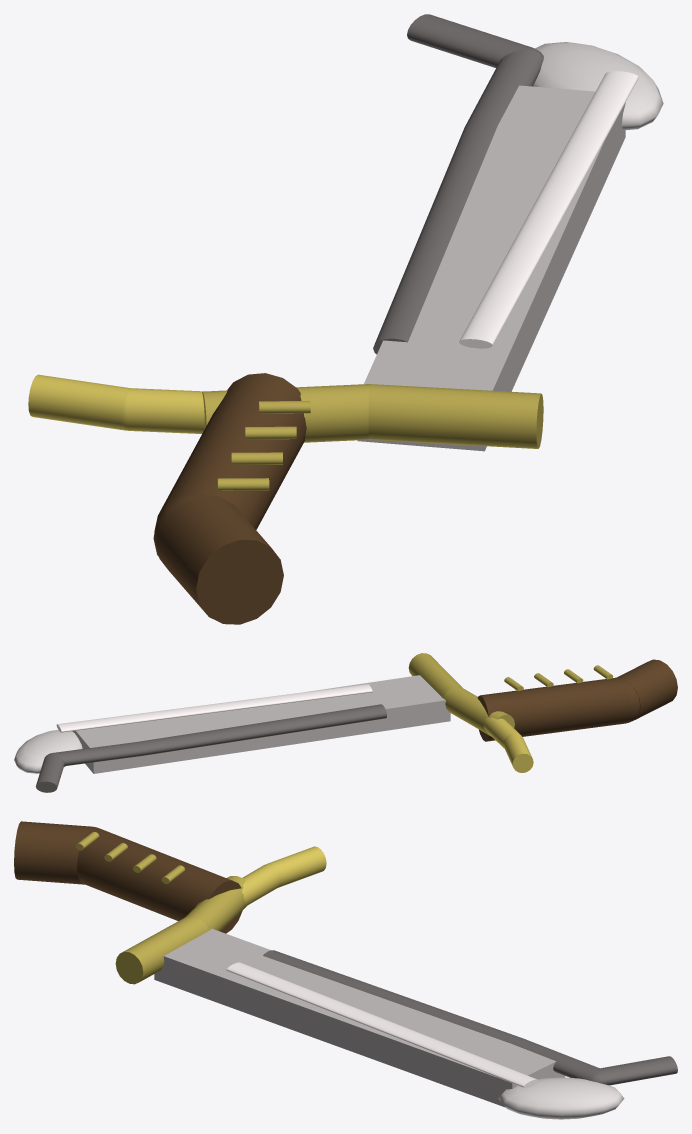
File: CMU3DFieldRMCCombatUtilityKnifeBCloud.glb
The picture shows the model from 3 angles, top to bottom: view 1: azimuth 30°, elevation 25°; view 2: azimuth 150°, elevation 25°; view 3: azimuth 270°, elevation 25°; orthographic projection. The views are drawn at different scales.
Parts seen in each view (by area): view 1: broad utility blade, bent brown grip span 1, bent brown grip span 2, utility blade polished edge, gold curved crossguard span 2, raised clip-point spine span 1, broad hooked blade tip, gold upper hook span 2, gold curved crossguard span 1, gold upper hook span 1, raised clip-point spine span 3, raised clip-point spine span 2; view 2: broad utility blade, bent brown grip span 2, raised clip-point spine span 1, utility blade polished edge, bent brown grip span 1, broad hooked blade tip, gold curved crossguard span 1, raised clip-point spine span 2, gold curved crossguard span 2, gold upper hook span 2, raised clip-point spine span 3, gold upper hook span 1 (+1 smaller); view 3: broad utility blade, bent brown grip span 2, utility blade polished edge, broad hooked blade tip, bent brown grip span 1, gold curved crossguard span 2, raised clip-point spine span 1, gold curved crossguard span 1, raised clip-point spine span 3, gold upper hook span 2, raised clip-point spine span 2, gold upper hook span 1.
Boxes of the visible parts, <box> form: broad utility blade: <box>357,85,625,451</box>; bent brown grip span 1: <box>156,493,283,624</box>; bent brown grip span 2: <box>154,373,306,531</box>; utility blade polished edge: <box>459,71,638,348</box>; gold curved crossguard span 2: <box>368,384,543,448</box>; raised clip-point spine span 1: <box>373,122,497,354</box>; broad hooked blade tip: <box>532,42,663,130</box>; gold upper hook span 2: <box>28,374,130,430</box>; gold curved crossguard span 1: <box>202,384,368,442</box>; gold upper hook span 1: <box>126,388,304,433</box>; raised clip-point spine span 3: <box>407,14,531,67</box>; raised clip-point spine span 2: <box>465,49,543,126</box>; broad utility blade: <box>72,675,450,773</box>; bent brown grip span 2: <box>477,677,629,741</box>; raised clip-point spine span 1: <box>138,704,386,755</box>; utility blade polished edge: <box>56,684,372,732</box>; bent brown grip span 1: <box>617,659,677,720</box>; broad hooked blade tip: <box>14,729,82,773</box>; gold curved crossguard span 1: <box>444,686,514,735</box>; raised clip-point spine span 2: <box>53,742,142,766</box>; gold curved crossguard span 2: <box>408,653,462,697</box>; gold upper hook span 2: <box>503,733,533,772</box>; raised clip-point spine span 3: <box>35,754,64,792</box>; gold upper hook span 1: <box>483,717,519,748</box>; broad utility blade: <box>154,928,565,1107</box>; bent brown grip span 2: <box>77,828,242,933</box>; utility blade polished edge: <box>226,962,538,1088</box>; broad hooked blade tip: <box>498,1077,624,1119</box>; bent brown grip span 1: <box>14,821,91,884</box>; gold curved crossguard span 2: <box>115,916,207,984</box>; raised clip-point spine span 1: <box>263,950,522,1043</box>; gold curved crossguard span 1: <box>184,876,246,931</box>; raised clip-point spine span 3: <box>598,1056,677,1085</box>; gold upper hook span 2: <box>268,846,326,887</box>; raised clip-point spine span 2: <box>512,1038,599,1080</box>; gold upper hook span 1: <box>196,864,280,906</box>.
Bounding box in the file's own units: 0.6352 × 0.0631 × 0.6666.
